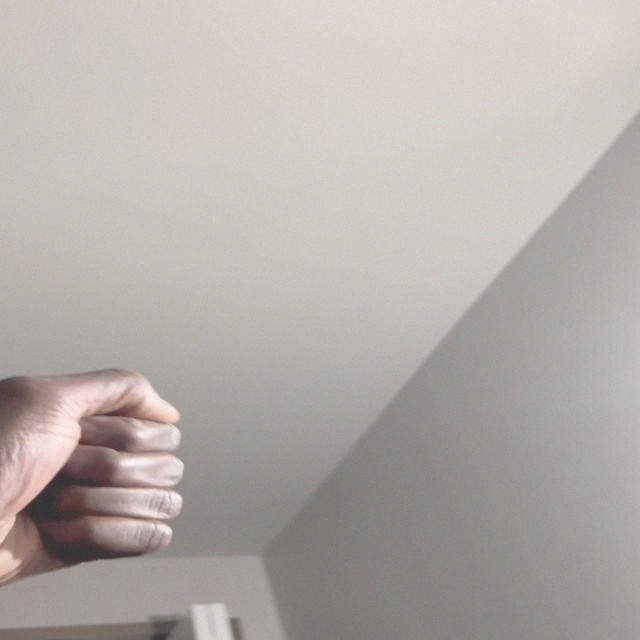Rock: (0, 363, 194, 598)
